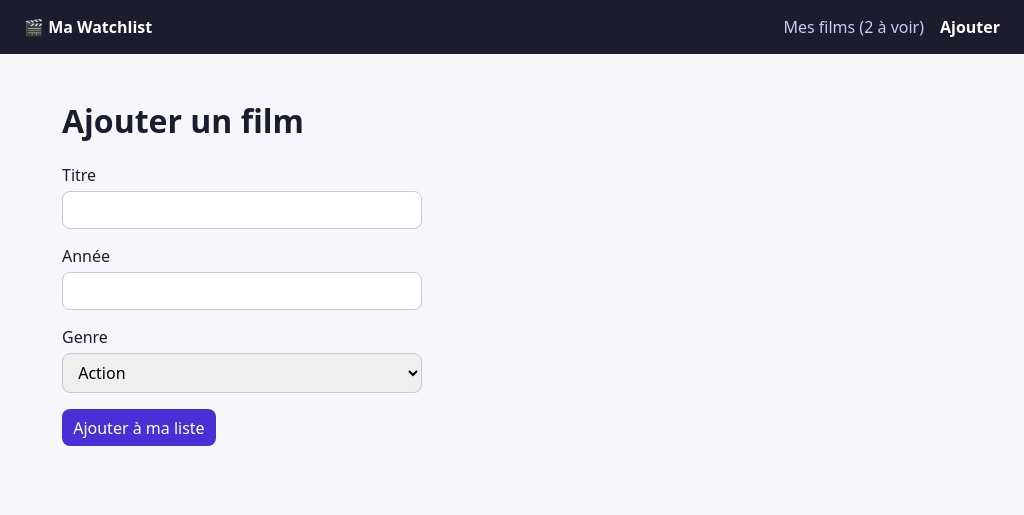
Ma Watchlist › refuse un formulaire invalide
Step 1. Type "A" into the field labelled "Titre" → (242, 210), box top-left (62, 191), bottom-right (422, 229)
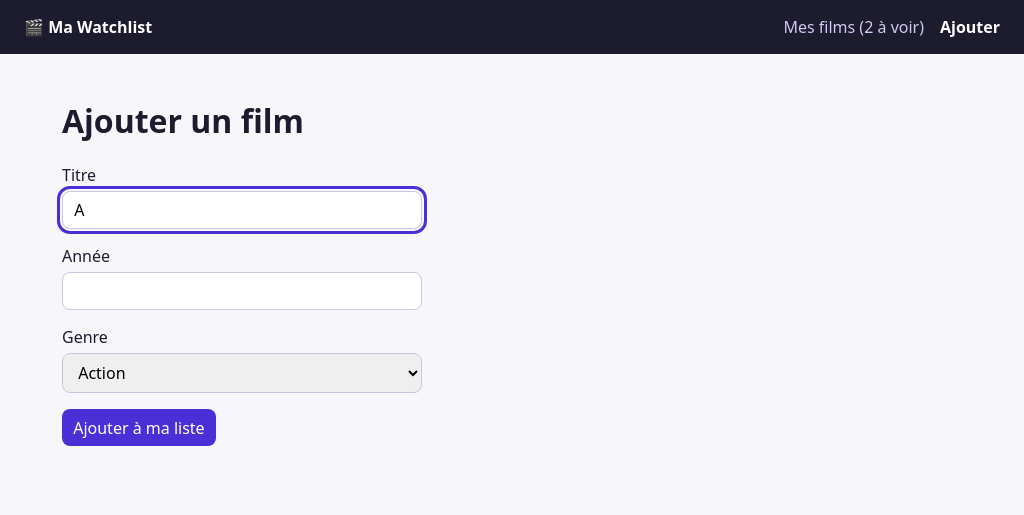
Step 2. Type "1700" into the number field labelled "Année" → (242, 291), box top-left (62, 272), bottom-right (422, 310)
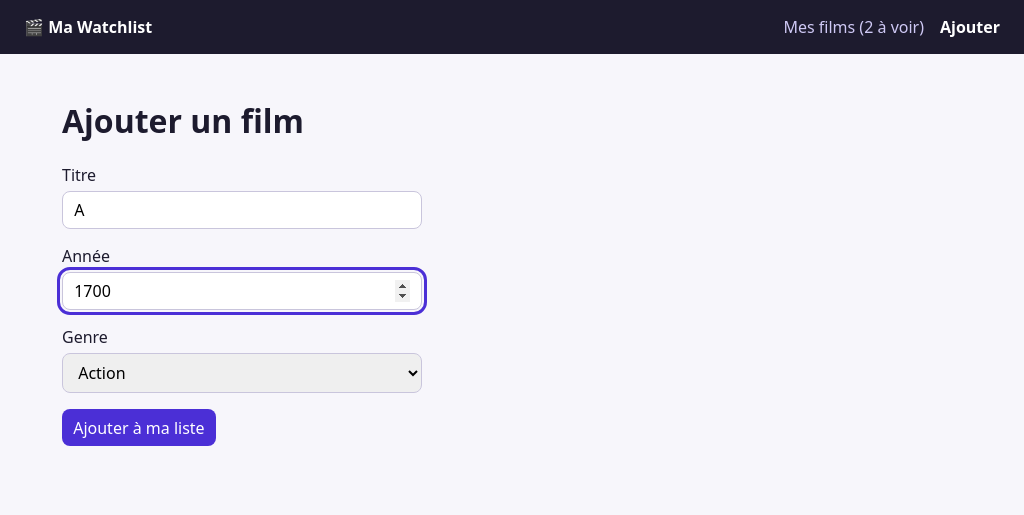
Step 3. Click the button "Ajouter à ma liste" → (139, 428), box top-left (62, 409), bottom-right (216, 446)
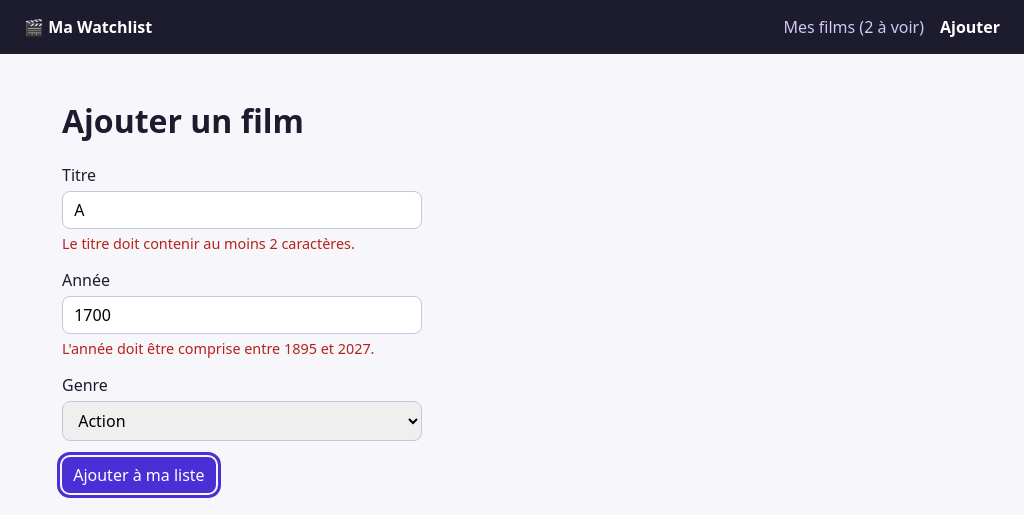
Now the text "Le titre doit contenir au moins 2 caractères." is shown, box top-left (62, 234), bottom-right (355, 253)
Now the text "L'année doit être comprise entre 1895 et 2027." is shown, box top-left (62, 339), bottom-right (422, 358)
